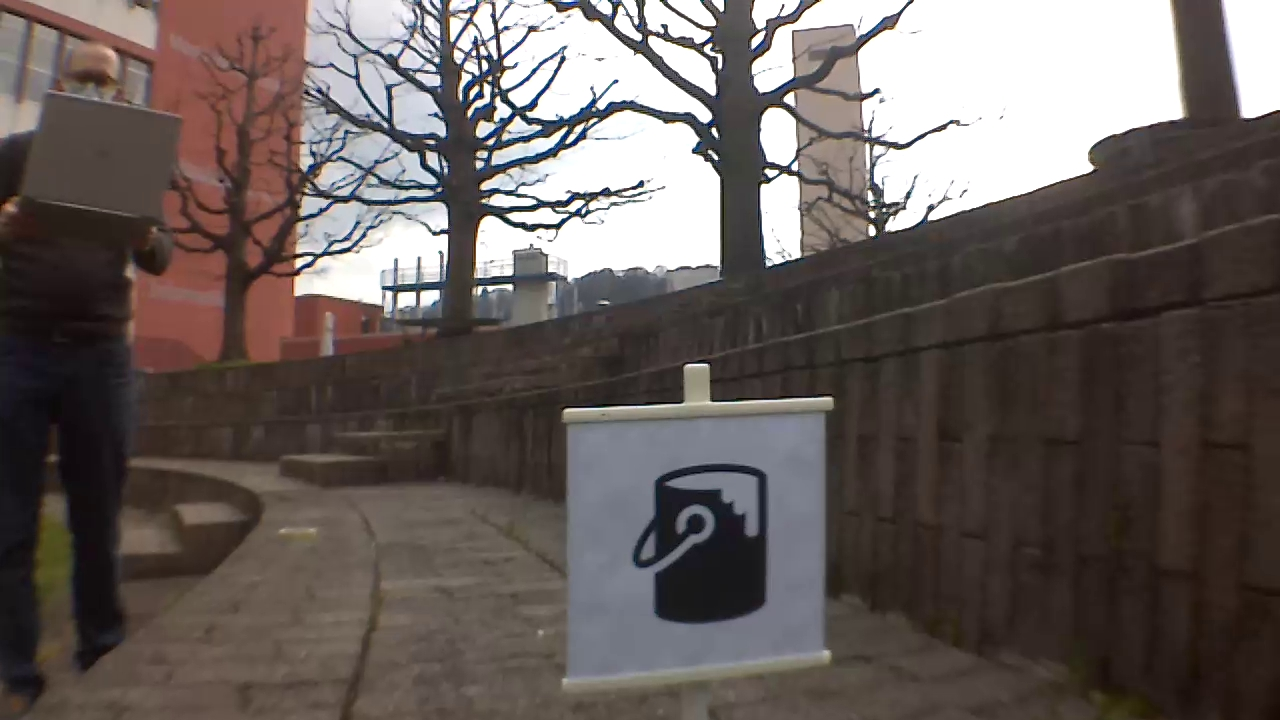bucket: (631, 464, 770, 627)
